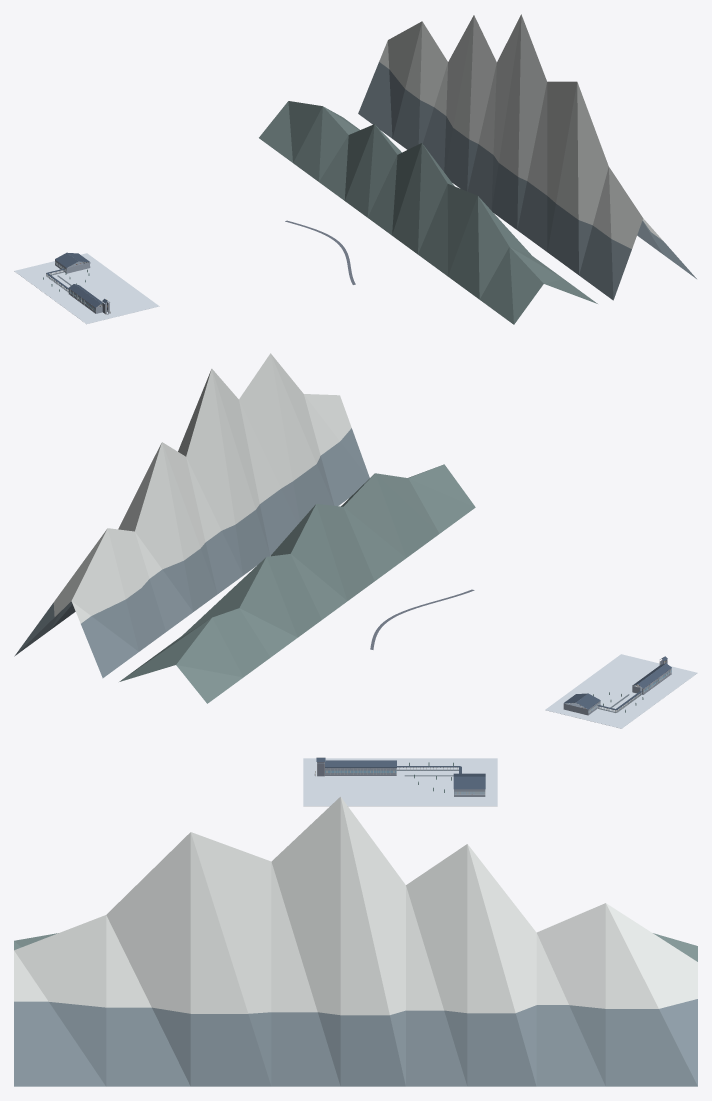
File: lahudi-academy.glb
3 views of the same model, one above another, from view 1: azimuth 30°, elevation 25°; view 2: azimuth 150°, elevation 25°; view 3: azimuth 270°, elevation 25° (orthographic). The views are drawn at different scales.
Visible parts, largest first — view 1: RG-GAME-02-ACOR-004__snowcap, RG-GAME-02-ACOR-004__foothill, RG-GAME-02-ACOR-004__rock, RG-GAME-02-EXTERIOR-REBUILD-V5__winter_campus_snowbase; view 2: RG-GAME-02-ACOR-004__snowcap, RG-GAME-02-ACOR-004__foothill, RG-GAME-02-ACOR-004__rock, RG-GAME-02-EXTERIOR-REBUILD-V5__winter_campus_snowbase; view 3: RG-GAME-02-ACOR-004__snowcap, RG-GAME-02-ACOR-004__rock, RG-GAME-02-EXTERIOR-REBUILD-V5__winter_campus_snowbase, RG-GAME-02-ACOR-004__foothill, RG-GAME-02-EXTERIOR-REBUILD-V5__academic_high_gable_slate_ro.
Boxes of the visible parts, x1=… form: RG-GAME-02-ACOR-004__snowcap: x1=379, y1=14, x2=663, y2=248; RG-GAME-02-ACOR-004__foothill: x1=259, y1=101, x2=597, y2=324; RG-GAME-02-ACOR-004__rock: x1=358, y1=62, x2=696, y2=300; RG-GAME-02-EXTERIOR-REBUILD-V5__winter_campus_snowbase: x1=14, y1=253, x2=159, y2=324; RG-GAME-02-ACOR-004__snowcap: x1=53, y1=353, x2=351, y2=623; RG-GAME-02-ACOR-004__foothill: x1=119, y1=464, x2=475, y2=703; RG-GAME-02-ACOR-004__rock: x1=14, y1=428, x2=369, y2=678; RG-GAME-02-EXTERIOR-REBUILD-V5__winter_campus_snowbase: x1=545, y1=654, x2=697, y2=728; RG-GAME-02-ACOR-004__snowcap: x1=14, y1=796, x2=697, y2=1015; RG-GAME-02-ACOR-004__rock: x1=14, y1=999, x2=697, y2=1086; RG-GAME-02-EXTERIOR-REBUILD-V5__winter_campus_snowbase: x1=303, y1=758, x2=497, y2=806; RG-GAME-02-ACOR-004__foothill: x1=14, y1=933, x2=697, y2=961; RG-GAME-02-EXTERIOR-REBUILD-V5__academic_high_gable_slate_ro: x1=324, y1=760, x2=396, y2=767.
Size of the model in its own units: 1012 by 366 by 890.
